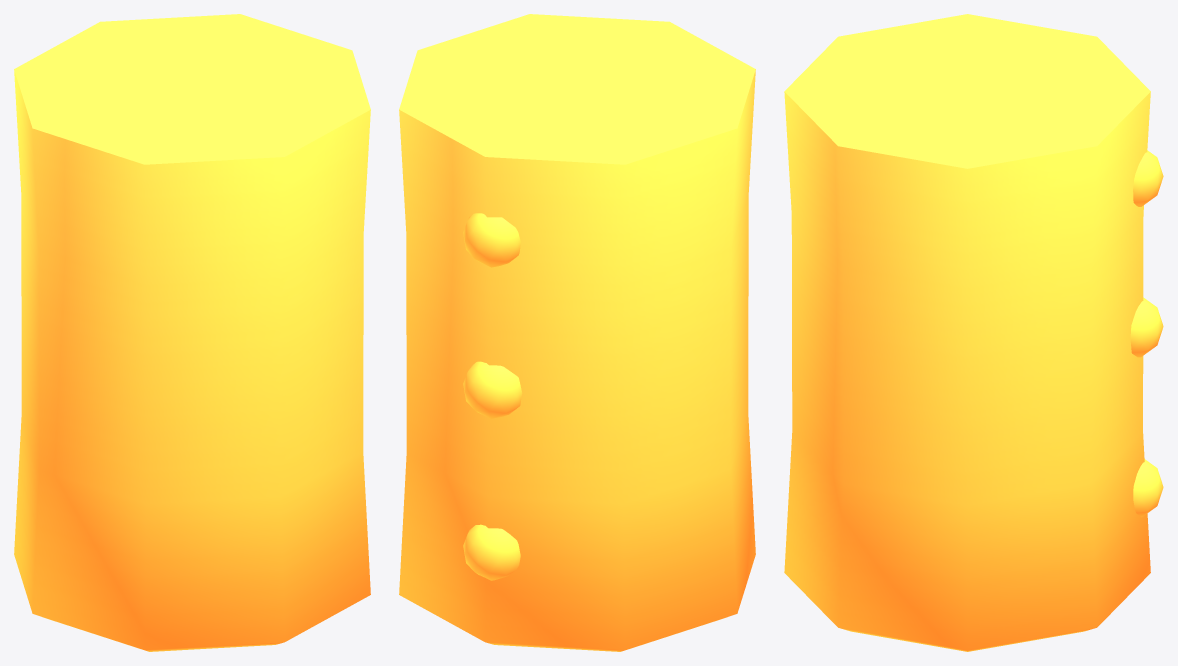
File: gold_grip_017.glb
The picture shows the model from 3 angles, left to right: view 1: azimuth 30°, elevation 25°; view 2: azimuth 150°, elevation 25°; view 3: azimuth 270°, elevation 25°; orthographic projection.
Visible parts, largest first — view 1: gold_grip_017; view 2: gold_grip_017; view 3: gold_grip_017.
Part boxes in pixels (x1,y1,x2,y2): gold_grip_017: [14, 14, 370, 651]; gold_grip_017: [399, 14, 755, 651]; gold_grip_017: [784, 14, 1163, 651].
Bounding box in the file's own units: 2.07 × 3.05 × 2.14.
1 material, 1 textured.
